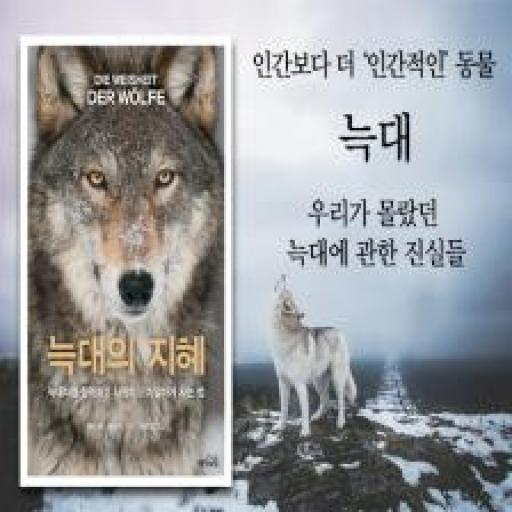wolf: (27, 39, 230, 475), (263, 272, 367, 446)
